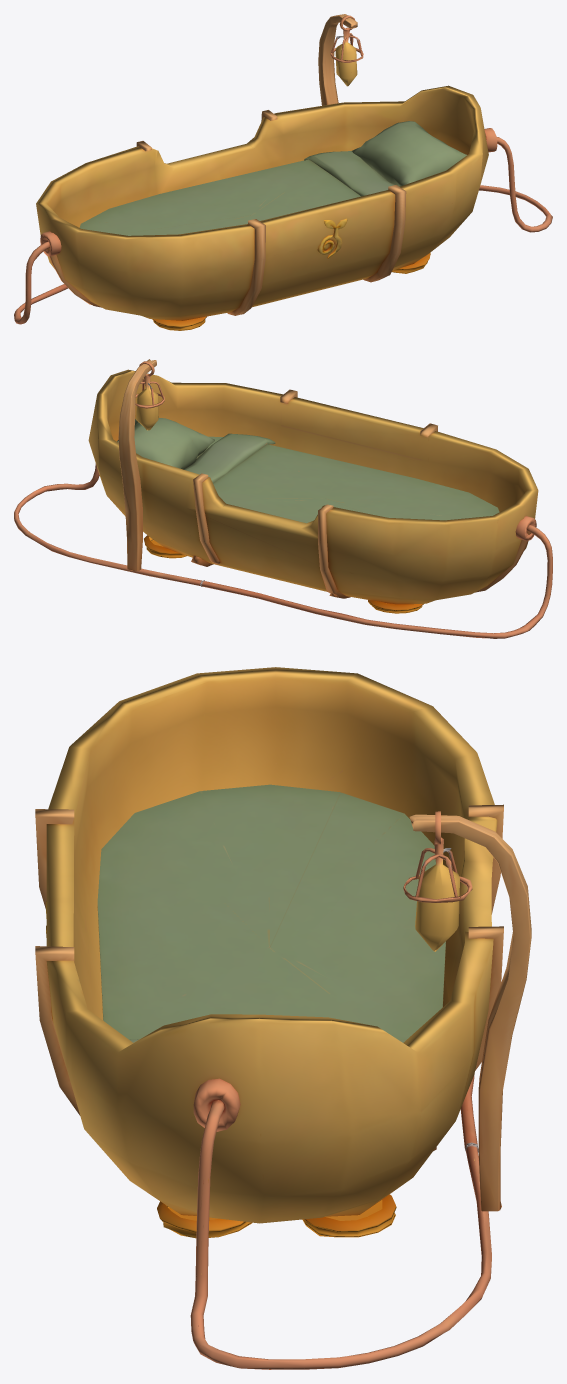
The model's file is berceau_meshy.glb.
3 renders of one model, top to bottom at view 1: azimuth 30°, elevation 25°; view 2: azimuth 150°, elevation 25°; view 3: azimuth 270°, elevation 25°, orthographic. The views are drawn at different scales.
Parts seen in each view (by area): view 1: geometry_0; view 2: geometry_0; view 3: geometry_0.
Boxes of the visible parts, x1,y1,x2,y2 form: geometry_0: (14, 14, 552, 330); geometry_0: (14, 359, 552, 638); geometry_0: (35, 667, 531, 1369).
Size of the model in its own units: 0.9512 by 0.3599 by 0.3931.
1 material, 1 textured.
